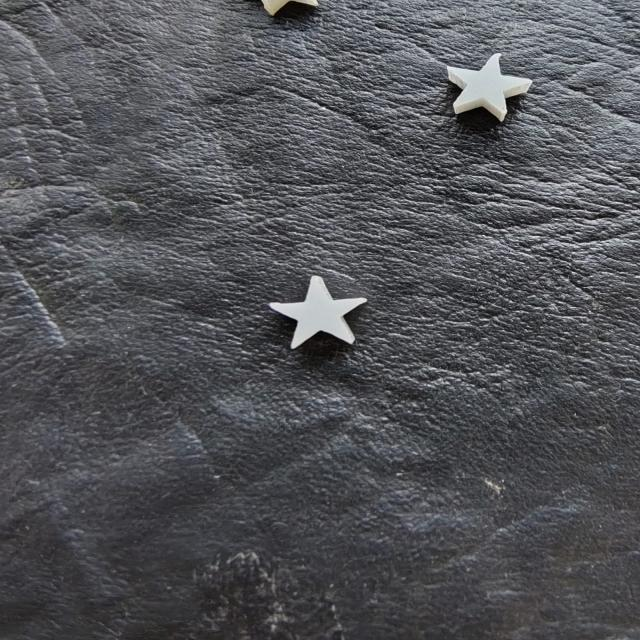estrellas: (270, 277, 365, 347), (449, 55, 530, 112)
